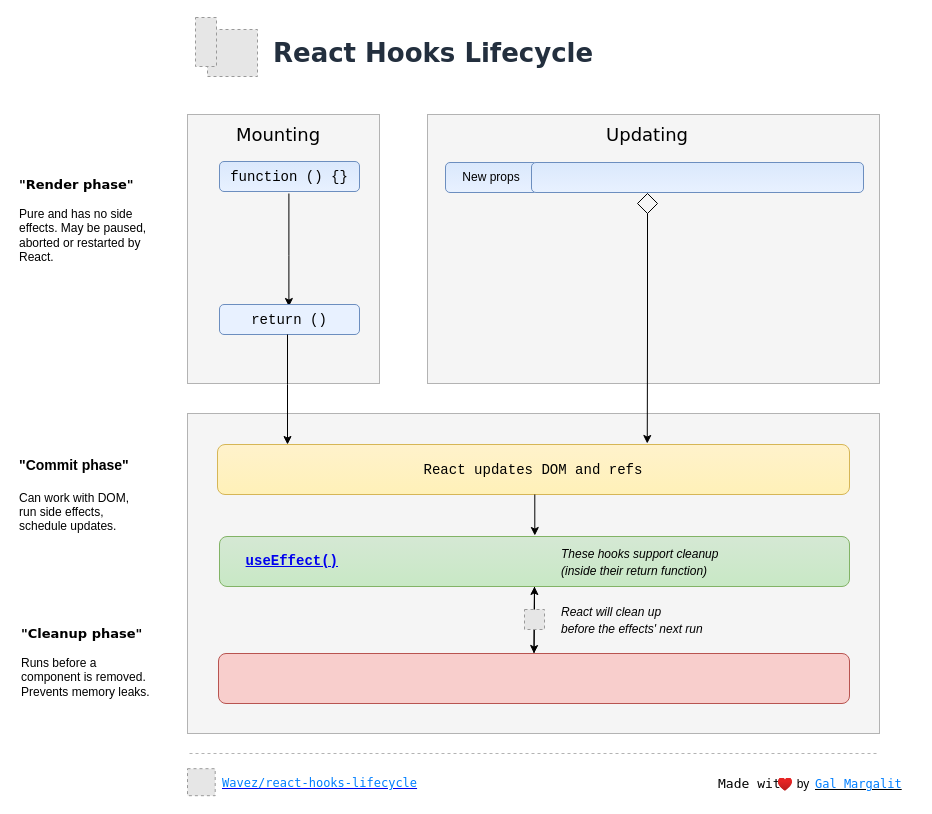
Image size: 932x814. Some labels were removed from this diagram. Grey dashed boxes stand in for pictures. The shapes that lost their labels are listed below. From the top down, each one's centre as x and y in pixels, then its label:
(x=697, y=177): useState()
(x=534, y=678): React cleans up effects
